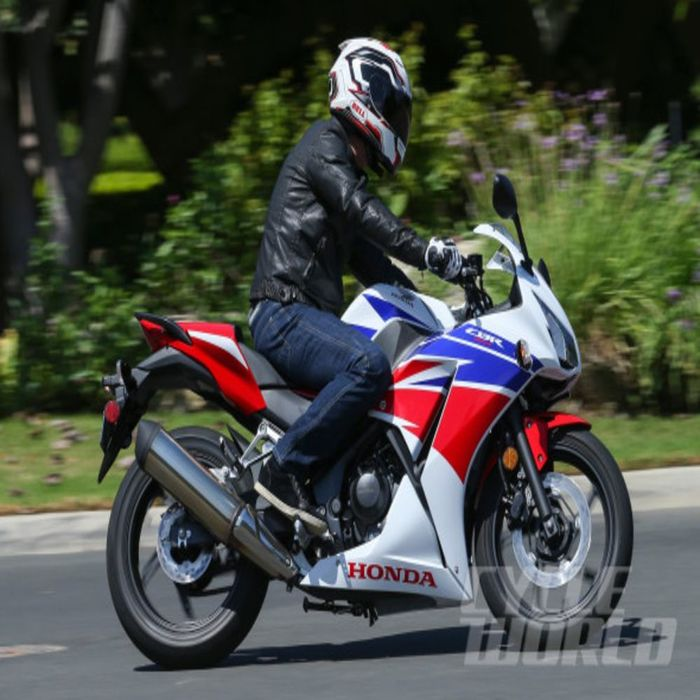h: (328, 31, 413, 187)
